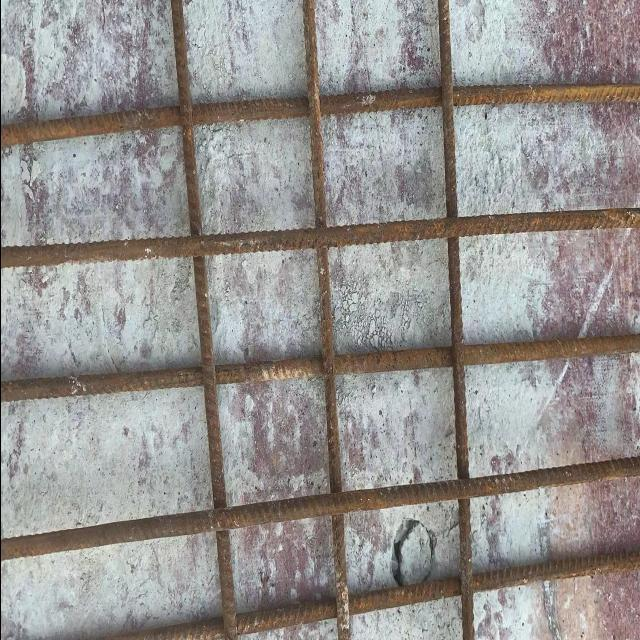ribbed bar: (1, 456, 640, 562), (1, 74, 640, 150), (1, 329, 640, 405), (114, 547, 640, 639), (170, 0, 240, 639), (1, 203, 640, 269), (302, 0, 350, 639), (436, 0, 477, 639)
